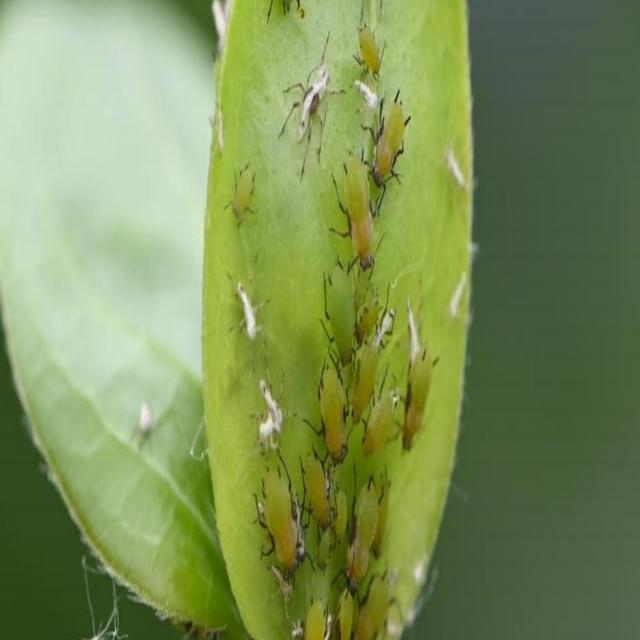Aphid-Grown-: (359, 91, 422, 217), (328, 153, 385, 280), (250, 440, 300, 566), (314, 239, 360, 372), (339, 474, 390, 590), (398, 331, 439, 458), (312, 359, 360, 461), (347, 8, 397, 94), (298, 433, 331, 541), (362, 368, 397, 468), (351, 332, 381, 431)
